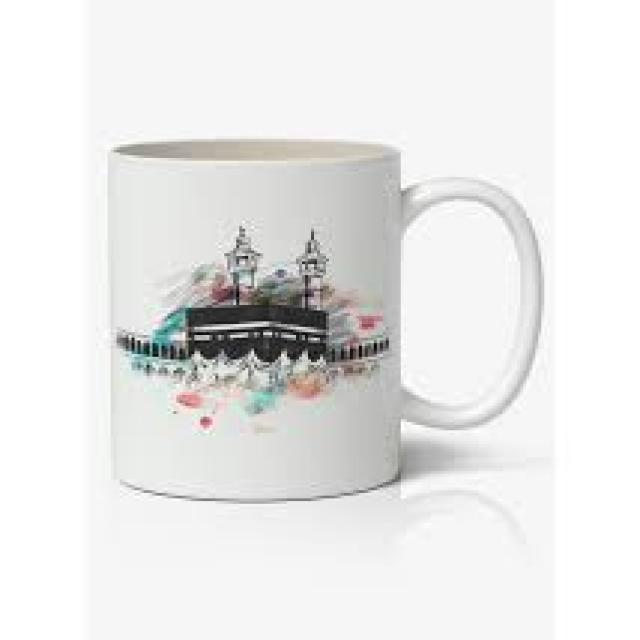taza: (104, 135, 546, 502)
